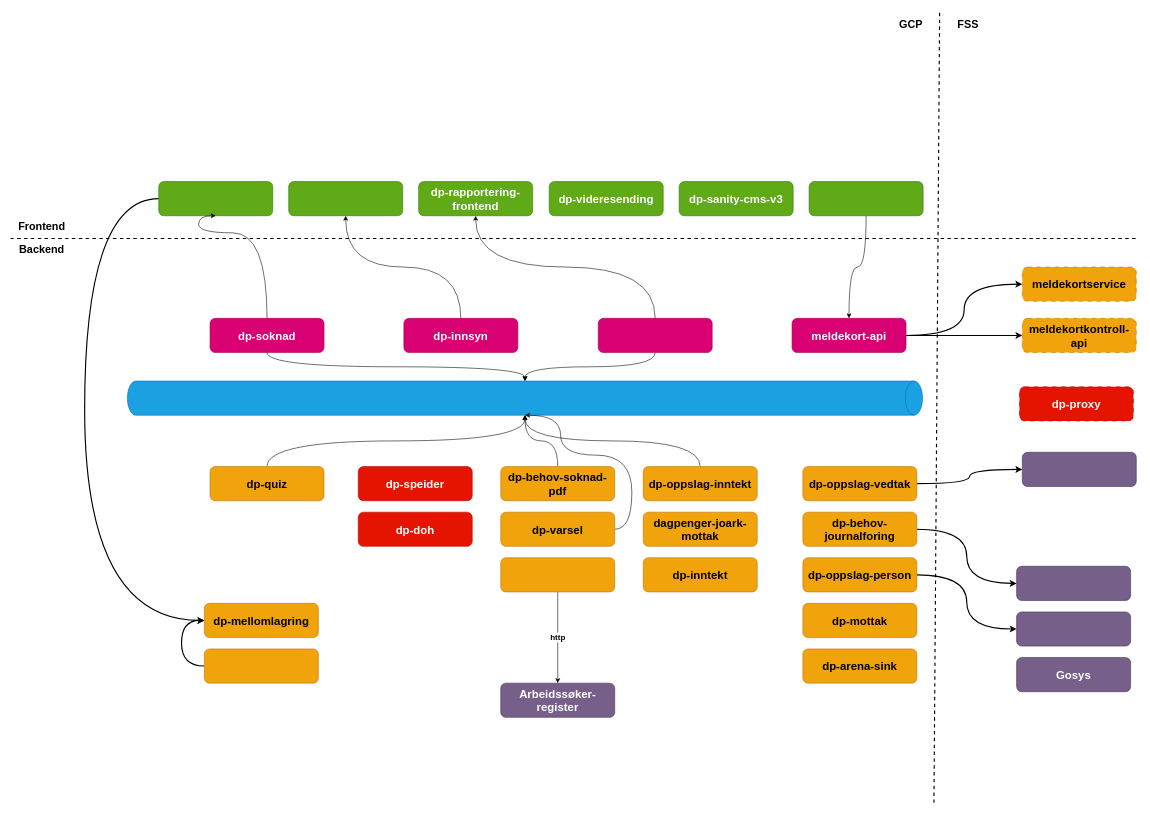
Some shapes in this 1150 by 813 pixel diagram are drawn without their labels. Here are the shapes that lost their labels. From the top down, the box of each, then its label:
(158, 181, 273, 216): dp-soknadsdialog
(288, 181, 403, 216): dp-dagpenger
(809, 181, 923, 216): meldekort
(598, 318, 712, 353): dp-rapportering
(127, 380, 923, 415): Rapid
(1022, 452, 1136, 486): Arena
(500, 557, 615, 592): dp-oppslag-arbeidssøker
(1016, 566, 1131, 600): Joark
(1016, 611, 1131, 646): PDL
(204, 648, 318, 683): dp-vaktmester-mellomlagring
